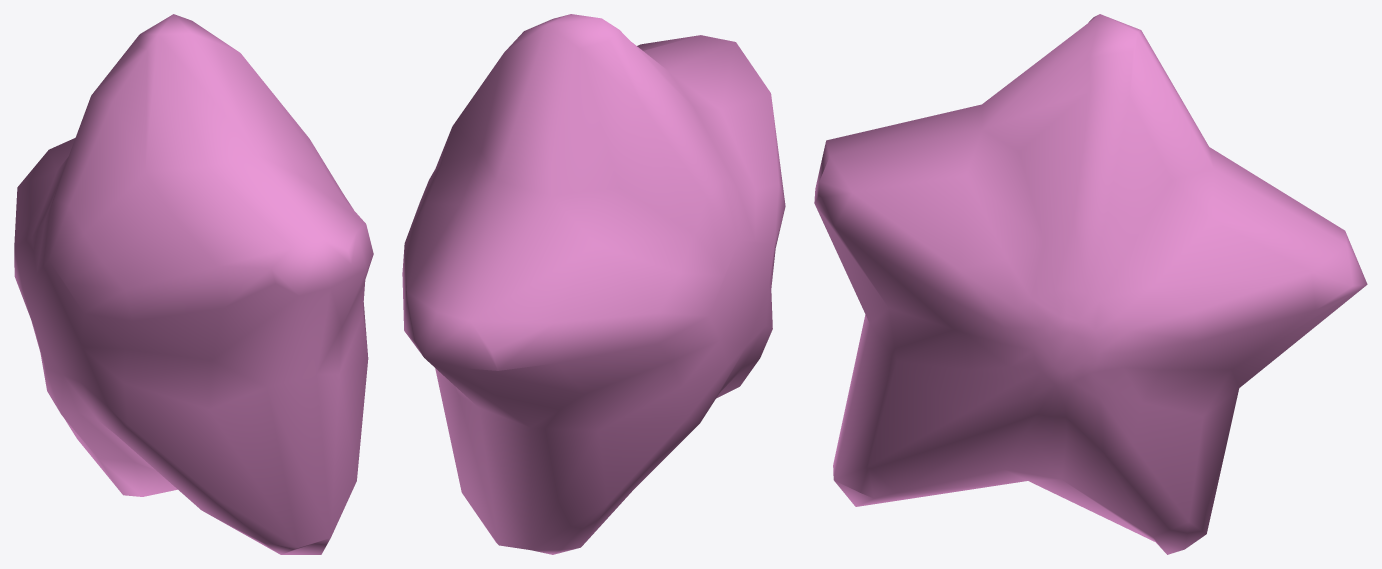
The model's file is starThree-DecKgvkz.glb.
3 renders of one model, left to right at view 1: azimuth 30°, elevation 25°; view 2: azimuth 150°, elevation 25°; view 3: azimuth 270°, elevation 25°, orthographic. The views are drawn at different scales.
Visible parts, largest first — view 1: star.003; view 2: star.003; view 3: star.003.
Boxes of the visible parts, x1,y1,x2,y2 form: star.003: (14, 14, 373, 554); star.003: (402, 14, 785, 554); star.003: (814, 14, 1367, 554).
Bounding box in the file's own units: 1.44 × 2.28 × 2.23.
